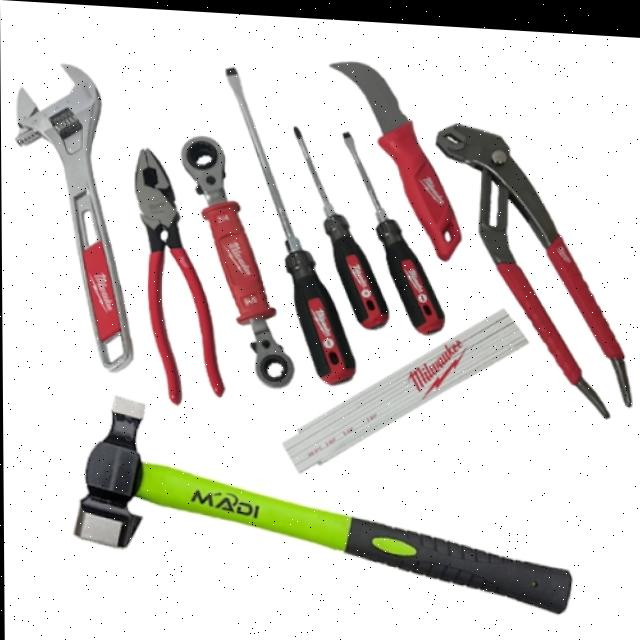Screwdriver: (228, 65, 353, 380), (344, 129, 443, 329), (295, 124, 387, 324)
